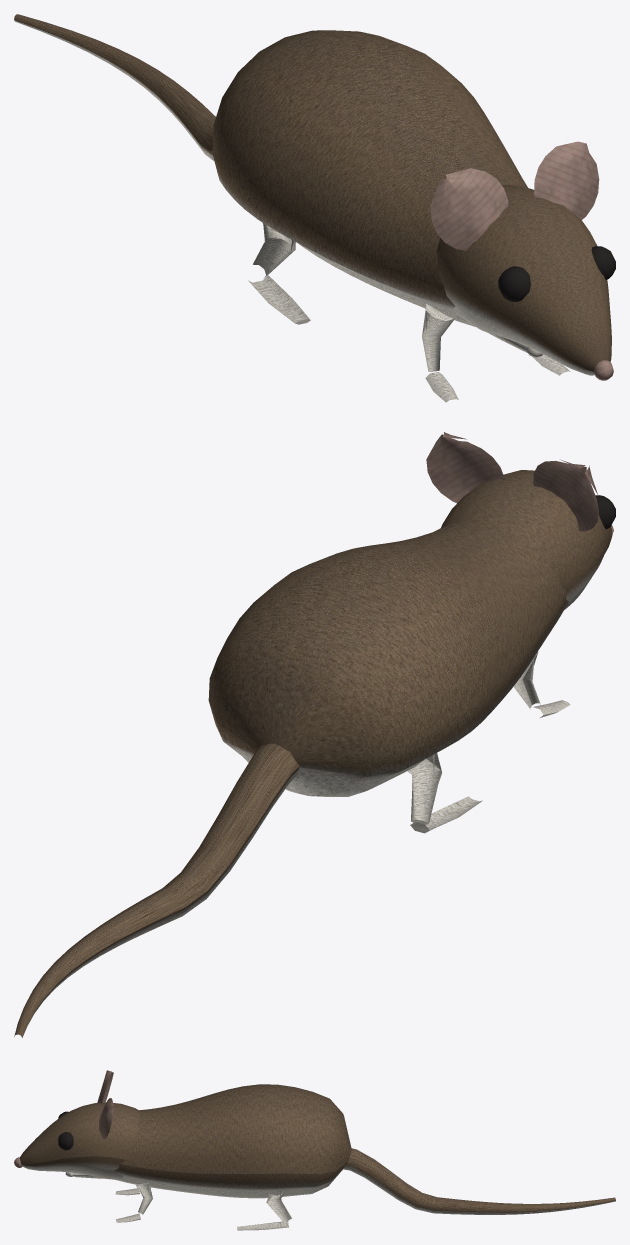
File: mouse.glb
3 views of the same model, one above another, from view 1: azimuth 30°, elevation 25°; view 2: azimuth 150°, elevation 25°; view 3: azimuth 270°, elevation 25° (orthographic). The views are drawn at different scales.
Parts seen in each view (by area): view 1: body, head, head_skin, tail, leg_HR, leg_FR, eyes; view 2: body, tail, head, head_skin, leg_HR, leg_FR; view 3: body, head, tail, head_skin, leg_HL, leg_FL, eyes.
Boxes of the visible parts, bbox=[...] form: body: bbox=[212, 30, 527, 326]; head: bbox=[436, 185, 611, 375]; head_skin: bbox=[430, 141, 613, 380]; tail: bbox=[14, 14, 215, 161]; leg_HR: bbox=[248, 222, 310, 324]; leg_FR: bbox=[422, 304, 458, 402]; eyes: bbox=[498, 246, 615, 301]; body: bbox=[208, 520, 568, 796]; tail: bbox=[14, 743, 299, 1037]; head: bbox=[441, 470, 611, 609]; head_skin: bbox=[426, 432, 613, 537]; leg_HR: bbox=[407, 753, 482, 833]; leg_FR: bbox=[513, 651, 570, 717]; body: bbox=[113, 1084, 351, 1198]; head: bbox=[19, 1102, 140, 1180]; tail: bbox=[343, 1148, 615, 1214]; head_skin: bbox=[14, 1070, 113, 1167]; leg_HL: bbox=[237, 1189, 291, 1230]; leg_FL: bbox=[116, 1183, 152, 1222]; eyes: bbox=[58, 1111, 73, 1150].
Bounding box in the file's own units: 0.0439 × 0.0442 × 0.1993.
Materials: 3 (2 with a texture image).
